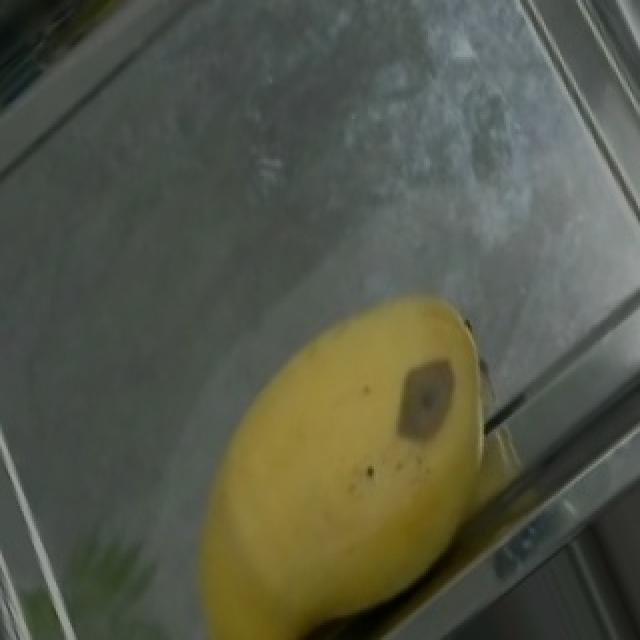fruit: (184, 233, 580, 625)
